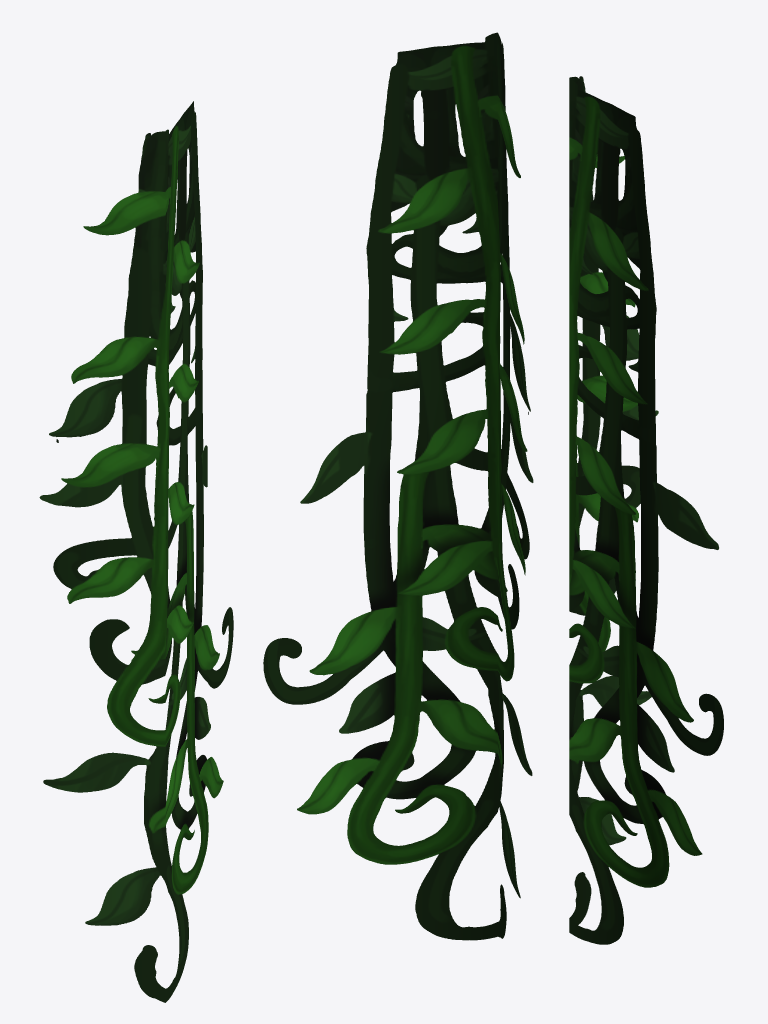
The model's file is sm_env_longcornervines4.fbx.
3 views of the same model, side by side, from view 1: azimuth 30°, elevation 25°; view 2: azimuth 150°, elevation 25°; view 3: azimuth 270°, elevation 25° (orthographic). The views are drawn at different scales.
Visible parts, largest first — view 1: pPlane90; view 2: pPlane90; view 3: pPlane90.
Boxes of the visible parts, <box> form: pPlane90: <box>39,101,233,1002</box>; pPlane90: <box>263,32,533,940</box>; pPlane90: <box>569,76,723,944</box>.
Size of the model in its own units: 83.7 by 294 by 55.86.
